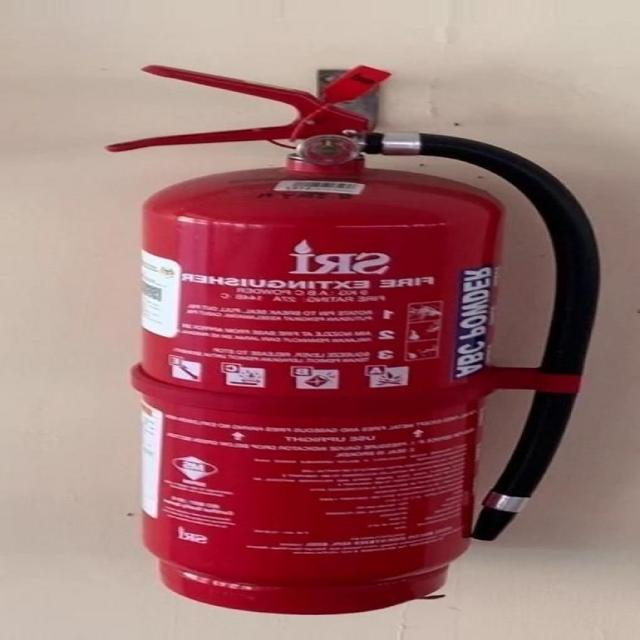fire_extinguisher: (98, 57, 607, 617)
